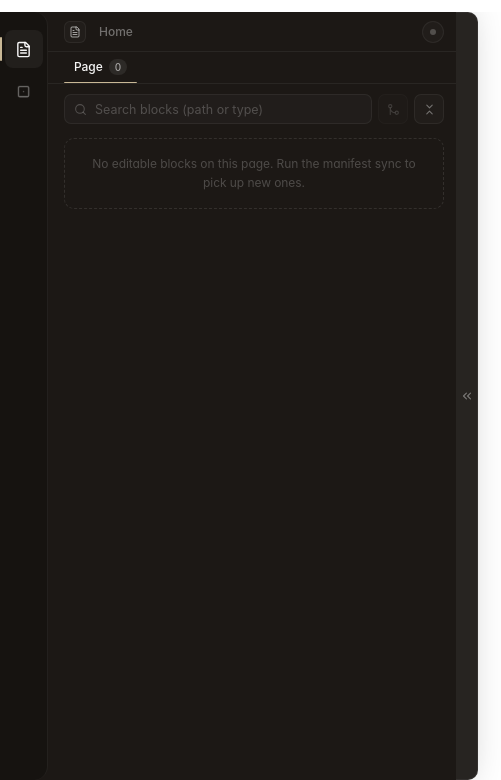
Test case: custom panels in the drawer › carries a registered panel on the rail and opens its body
This screenshot has width=501, height=780.
Click the button named "Orders".
click(24, 91)  # box [4,72,42,110]
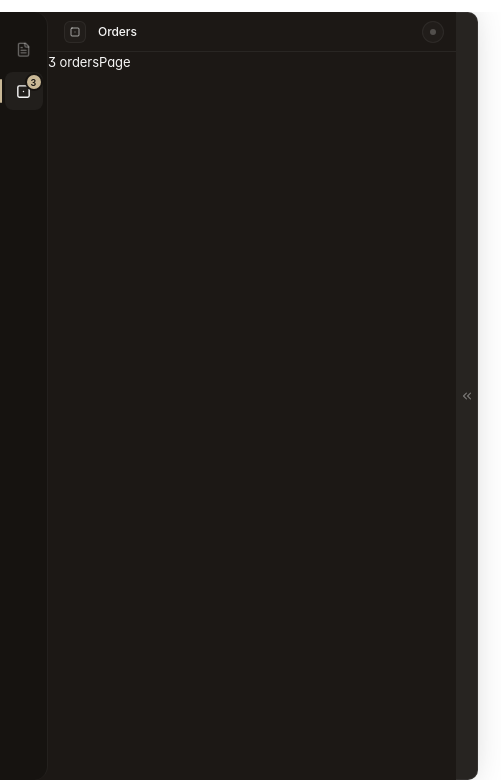
Check: the text "3 orders" is shown, box [48,54,99,70]
